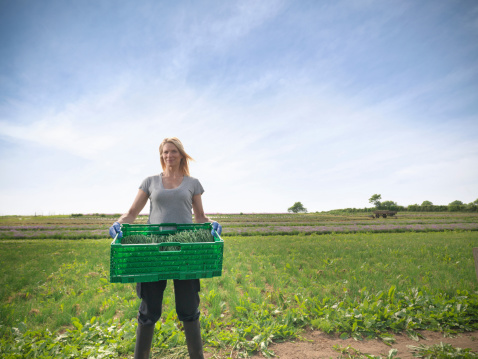em pe: (108, 127, 213, 351)
